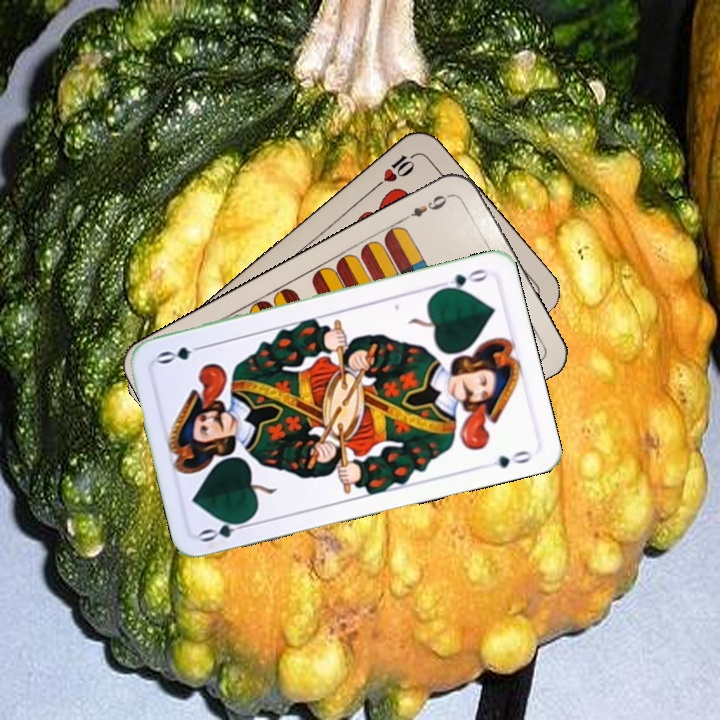E9: (399, 190, 455, 223)
GO: (196, 514, 255, 545), (433, 265, 491, 294)
H10: (369, 149, 418, 192)
